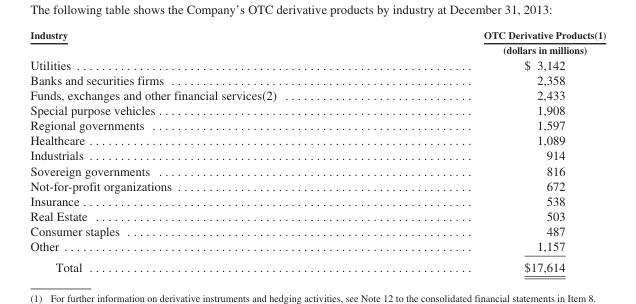table: (29, 28, 605, 273)
table column: (29, 28, 379, 273), (379, 28, 605, 273)
table column header: (29, 28, 605, 56)
table row: (29, 28, 605, 56), (29, 238, 605, 256), (29, 256, 605, 273), (29, 71, 605, 87), (29, 177, 605, 193), (29, 56, 605, 71), (29, 87, 605, 102), (29, 102, 605, 117), (29, 117, 605, 132), (29, 132, 605, 147), (29, 147, 605, 162), (29, 162, 605, 177), (29, 193, 605, 208), (29, 208, 605, 223), (29, 223, 605, 238)
